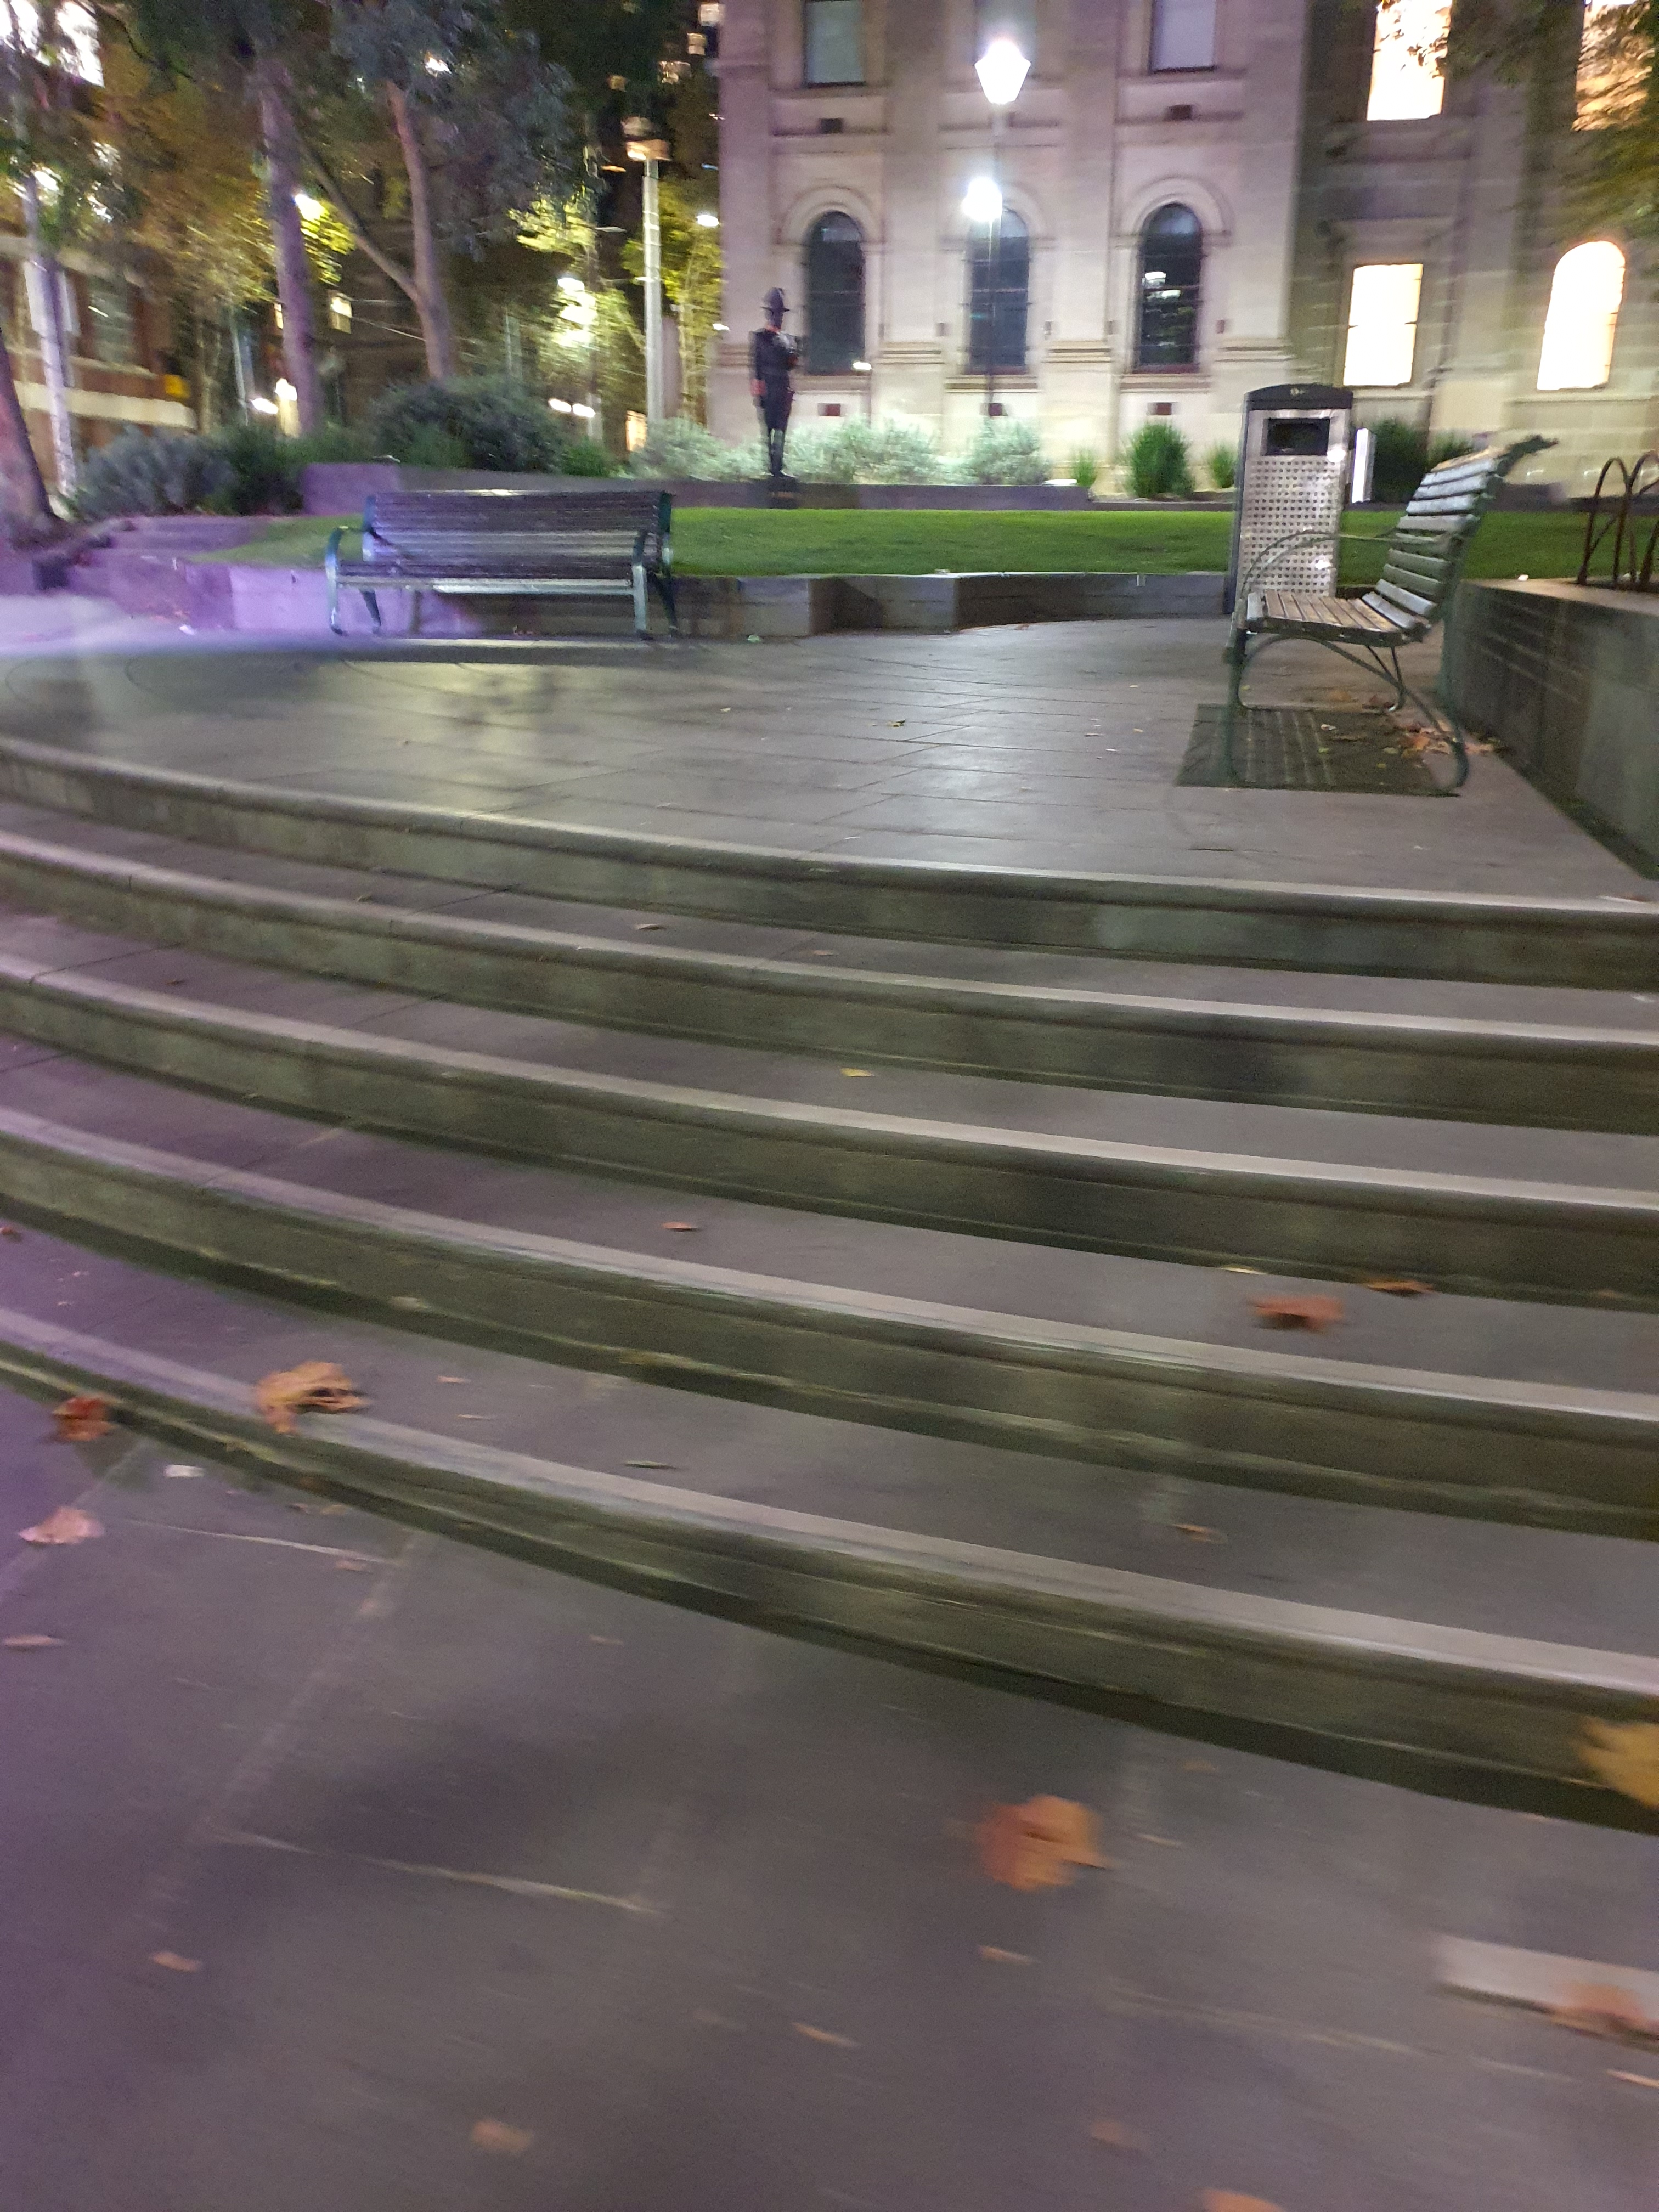upstairs: (188, 843, 1628, 1825)
